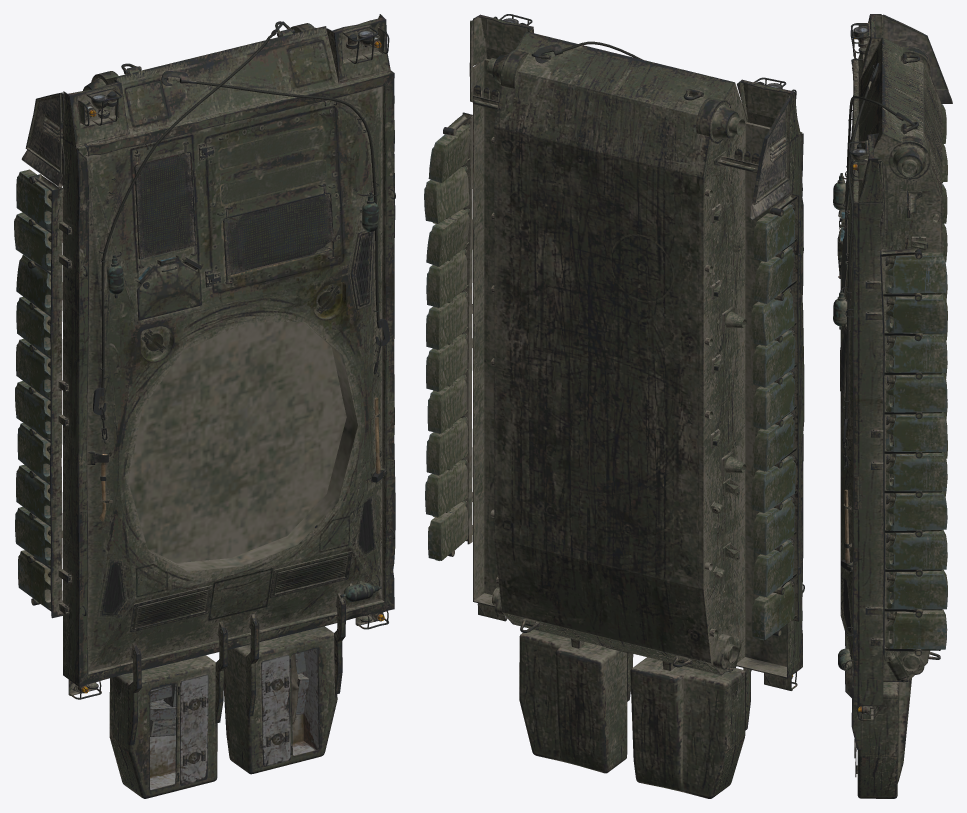
File: Hull.glb
The picture shows the model from 3 angles, left to right: view 1: azimuth 30°, elevation 25°; view 2: azimuth 150°, elevation 25°; view 3: azimuth 270°, elevation 25°; orthographic projection. The views are drawn at different scales.
Parts seen in each view (by area): view 1: set_0_group_0; view 2: set_0_group_0; view 3: set_0_group_0.
Part boxes in pixels (box(x1,y1,x2,y2)): set_0_group_0: box(14, 14, 395, 798); set_0_group_0: box(424, 14, 804, 798); set_0_group_0: box(833, 14, 952, 798).
Size of the model in its own units: 3.63 by 7.21 by 1.16.
Materials: 1 (1 with a texture image).
